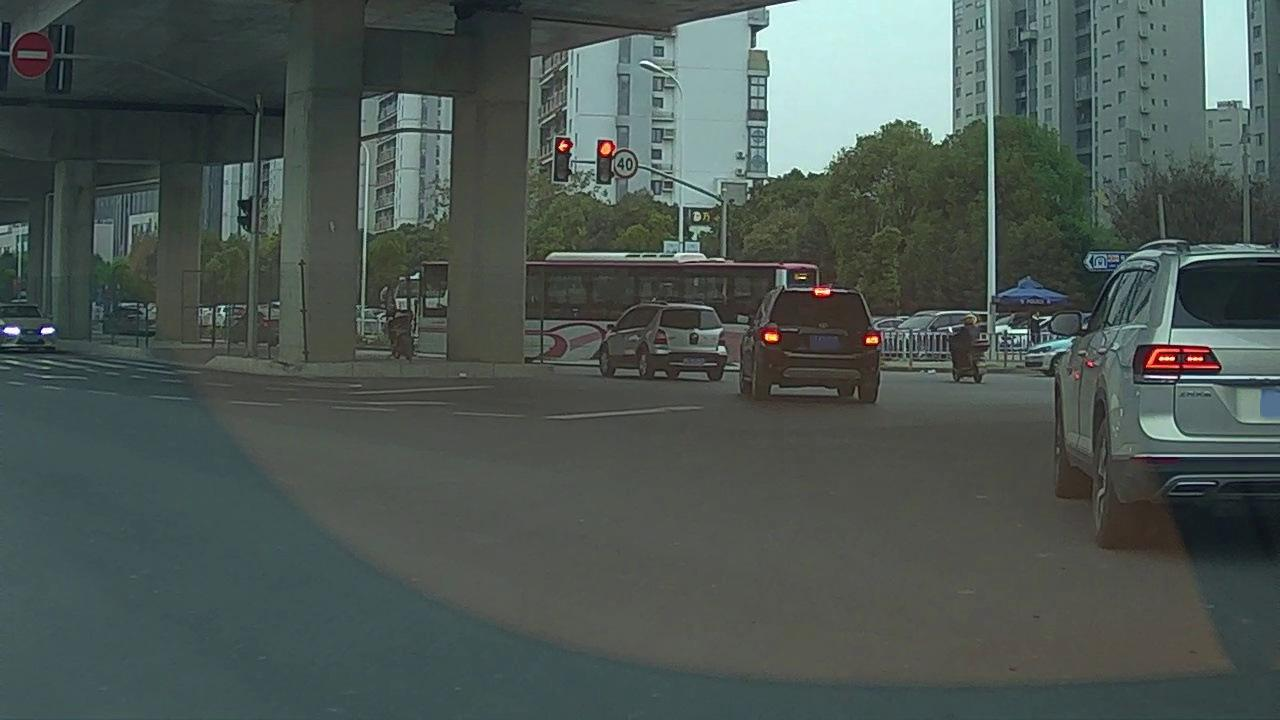traffic_light: (555, 137, 568, 180), (599, 139, 611, 182)
